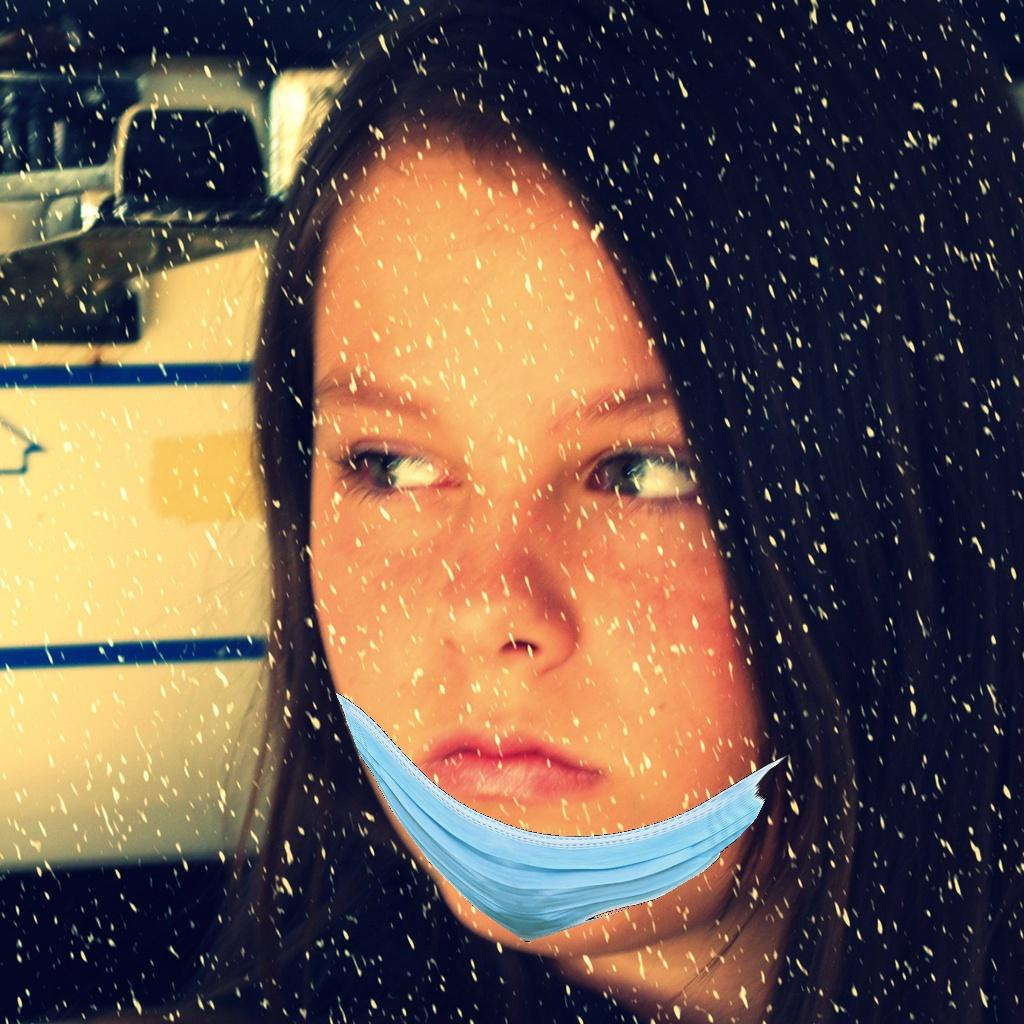Máscara Incorreta: (287, 290, 808, 944)
